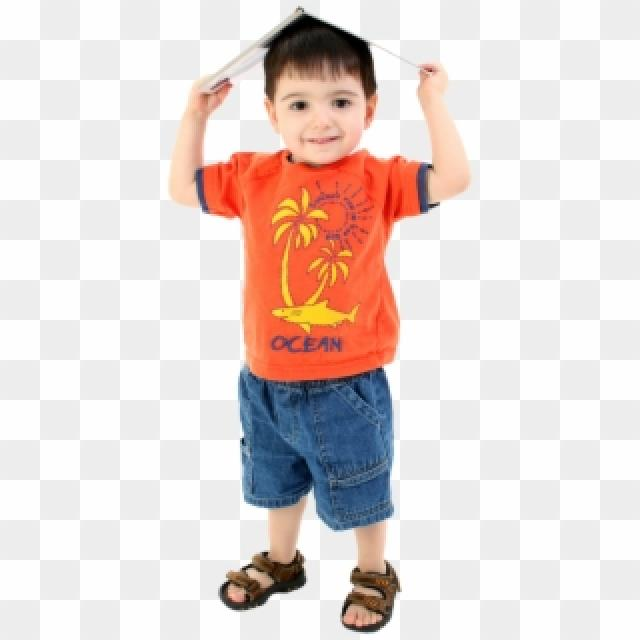child: (154, 2, 498, 640)
